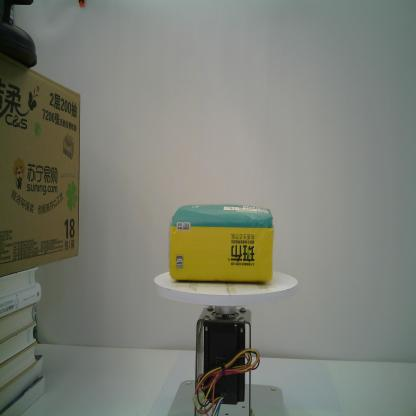Tissue: (167, 202, 275, 286)
